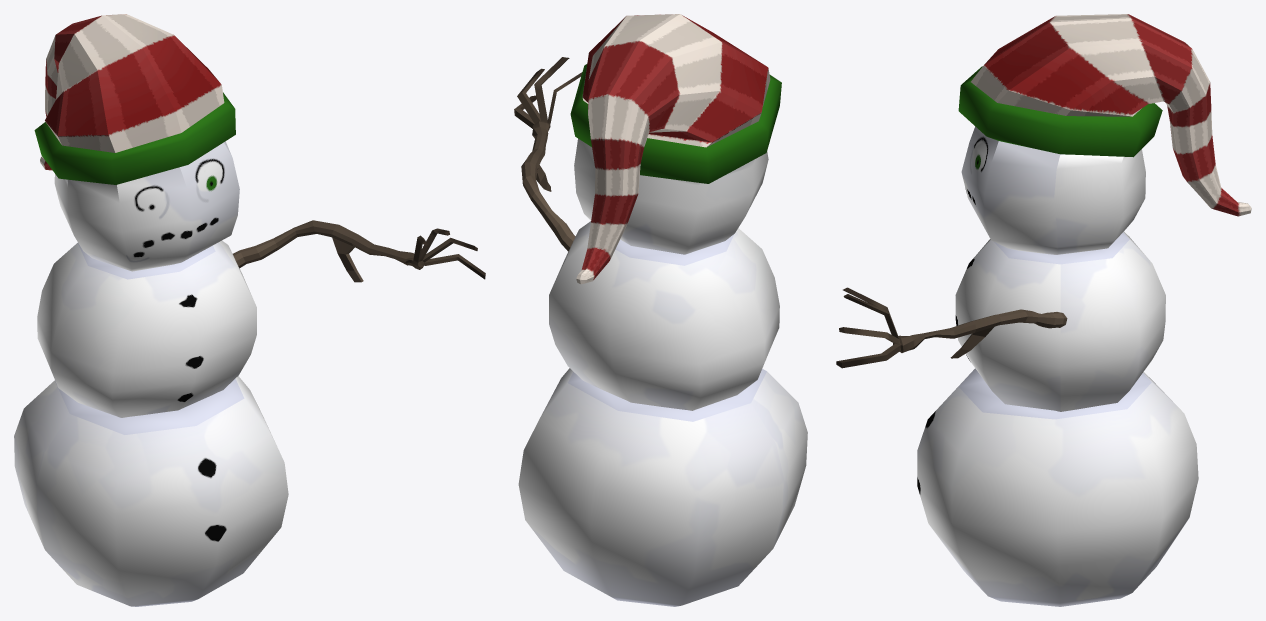
Rendered from CN_DeadSnowman3.fbx.
The picture shows the model from 3 angles, left to right: view 1: azimuth 30°, elevation 25°; view 2: azimuth 150°, elevation 25°; view 3: azimuth 270°, elevation 25°; orthographic projection. The views are drawn at different scales.
Visible parts, largest first — view 1: SnowMan_Mound_Bottom, snowman_head, Snowman_Mound_Middle, polySurface1; view 2: SnowMan_Mound_Bottom, snowman_head, Snowman_Mound_Middle, polySurface1; view 3: SnowMan_Mound_Bottom, snowman_head, Snowman_Mound_Middle, polySurface1.
Boxes of the visible parts, x1,y1,x2,y2 form: SnowMan_Mound_Bottom: (14, 376, 288, 606); snowman_head: (34, 14, 239, 271); Snowman_Mound_Middle: (37, 240, 256, 417); polySurface1: (233, 220, 485, 282); SnowMan_Mound_Bottom: (518, 368, 807, 606); snowman_head: (570, 14, 781, 284); Snowman_Mound_Middle: (549, 221, 779, 410); polySurface1: (514, 57, 582, 251); SnowMan_Mound_Bottom: (917, 368, 1198, 606); snowman_head: (958, 14, 1251, 254); Snowman_Mound_Middle: (955, 232, 1165, 411); polySurface1: (836, 287, 1067, 368).
Size of the model in its own units: 204 by 307 by 206.
